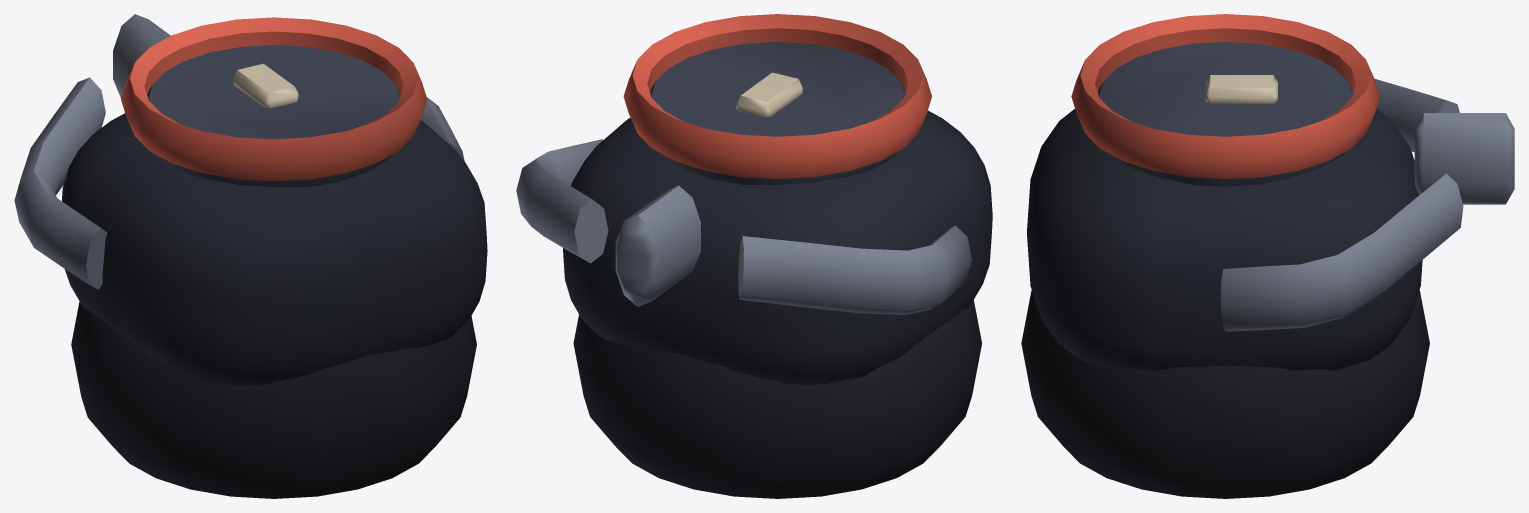
Rendered from SM_Crew_PhoneCupR.fbx.
3 renders of one model, left to right at view 1: azimuth 30°, elevation 25°; view 2: azimuth 150°, elevation 25°; view 3: azimuth 270°, elevation 25°, orthographic.
Parts seen in each view (by area): view 1: SM_Crew_PhoneCupR; view 2: SM_Crew_PhoneCupR; view 3: SM_Crew_PhoneCupR.
Boxes of the visible parts, x1,y1,x2,y2 form: SM_Crew_PhoneCupR: [14, 14, 487, 498]; SM_Crew_PhoneCupR: [516, 14, 992, 498]; SM_Crew_PhoneCupR: [1021, 14, 1514, 498].
Bounding box in the file's own units: 118 × 95.46 × 121.
